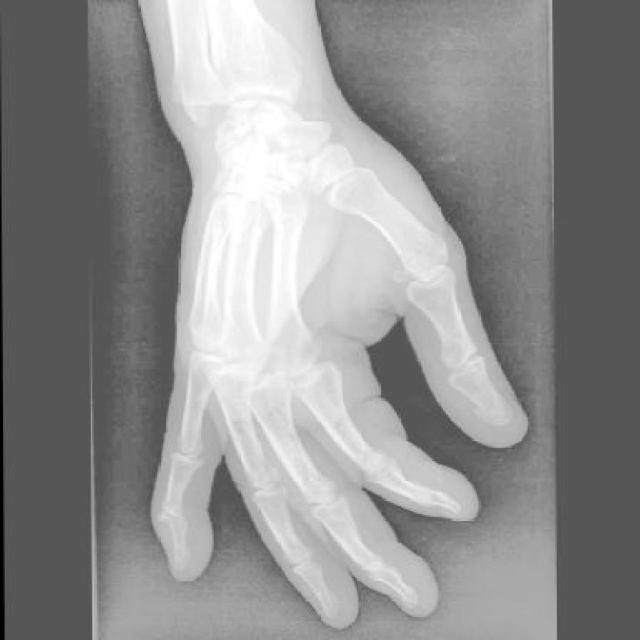Fracture: (154, 510, 188, 533)
